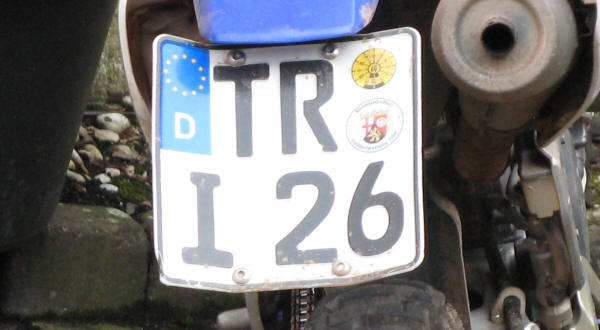license_plate: (151, 26, 422, 292)
